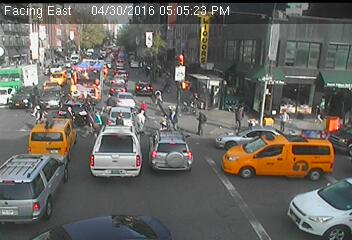neg: (124, 152, 147, 183), (87, 148, 109, 178), (101, 52, 115, 71), (66, 54, 80, 72), (85, 51, 97, 66)
pos: (191, 109, 213, 138), (311, 97, 333, 126), (275, 106, 296, 133), (233, 104, 252, 129)
